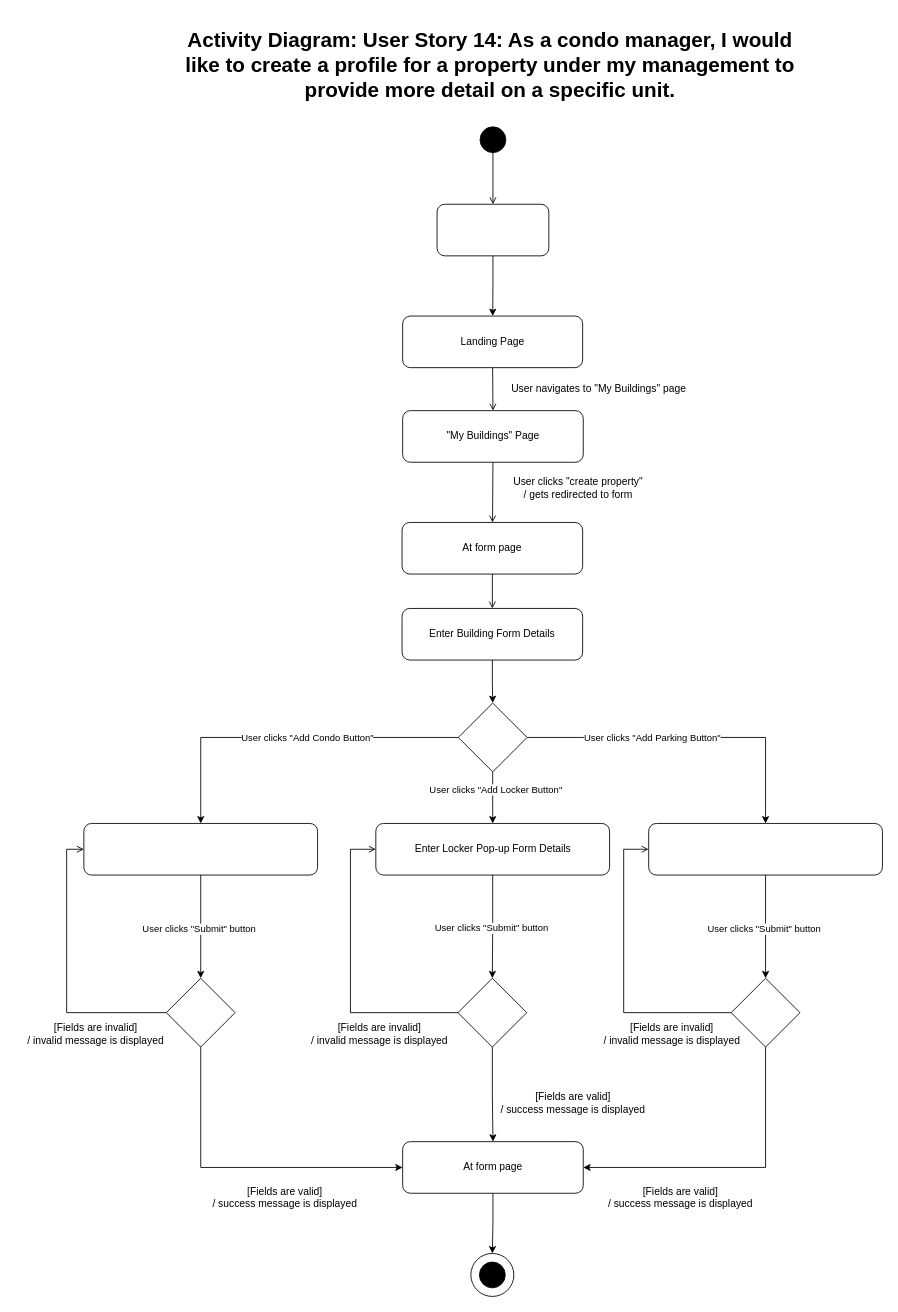
Image size: 898x1312. Some labels were removed from this diagram. The shapes that lost their labels are listed below. From the top down, each one's centre as x and y in pixels, then its label:
At [492,229]: "User is logs in".
At [200,849]: "Enter Condo Pop-up Form Details".
At [765,849]: "Enter Parking Pop-up Form Details".
